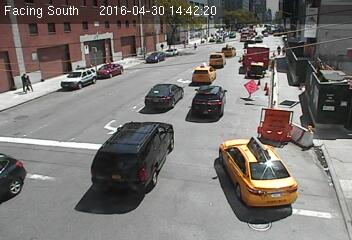neg: (11, 127, 48, 176), (68, 56, 103, 102), (238, 44, 267, 83), (174, 153, 203, 191), (109, 105, 137, 142), (273, 106, 299, 141), (246, 194, 272, 229), (193, 85, 218, 120), (209, 32, 233, 63), (168, 60, 191, 91), (133, 36, 155, 65)
pos: (19, 69, 36, 92)
